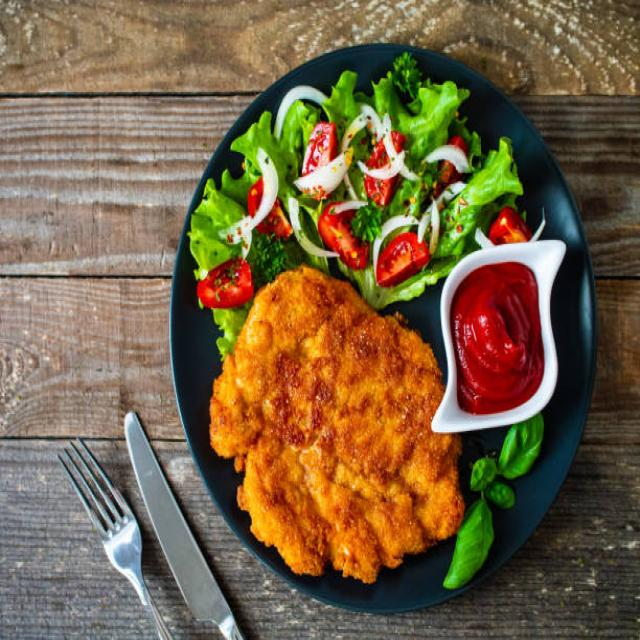Frango: (207, 264, 466, 580)
